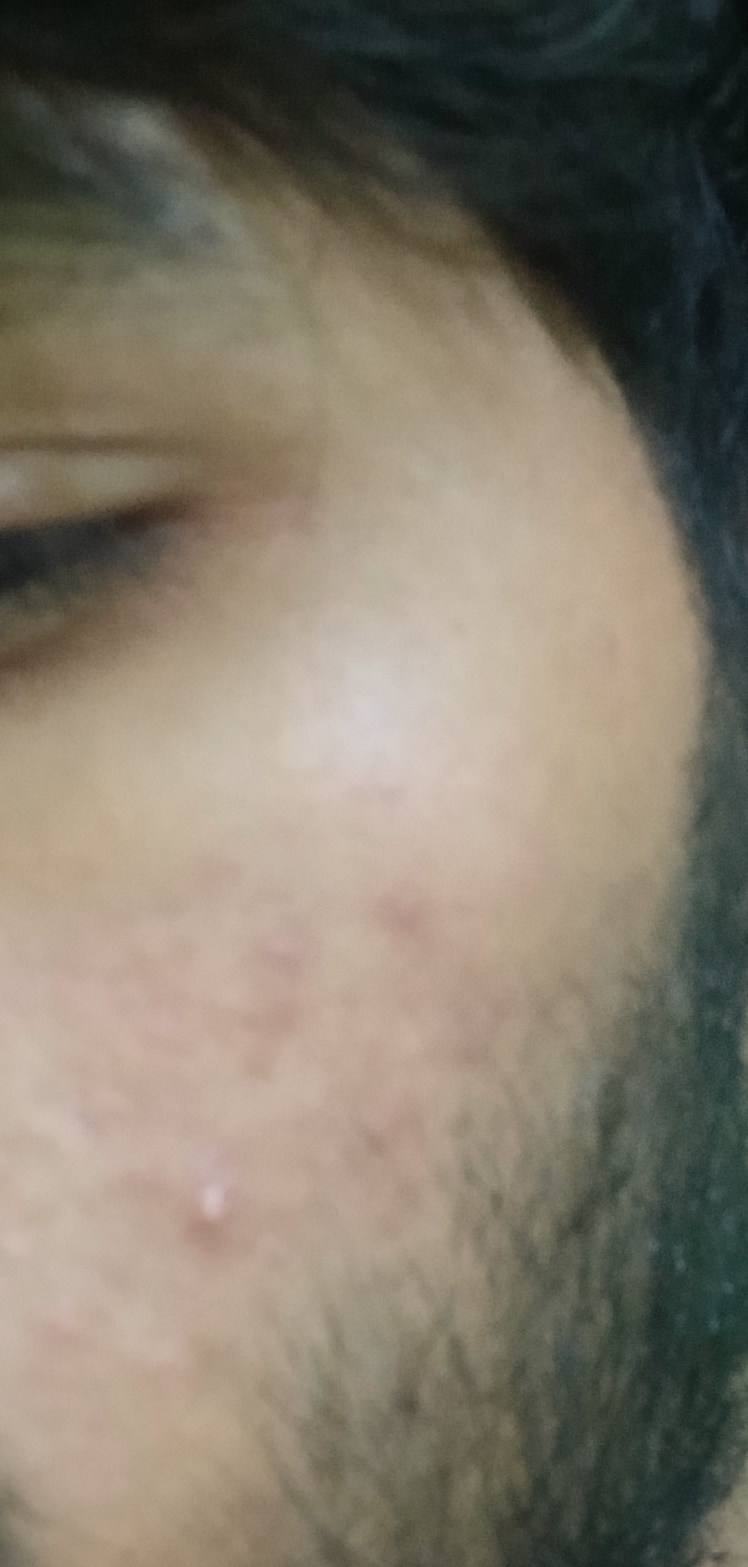papule: (216, 975, 320, 1099), (361, 851, 457, 975)
pustule: (160, 1166, 284, 1249)
